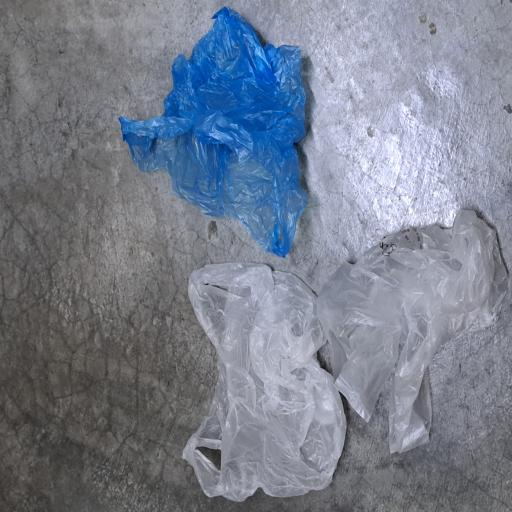plastic bag: (193, 168, 374, 416), (8, 238, 187, 460), (48, 421, 233, 512)
